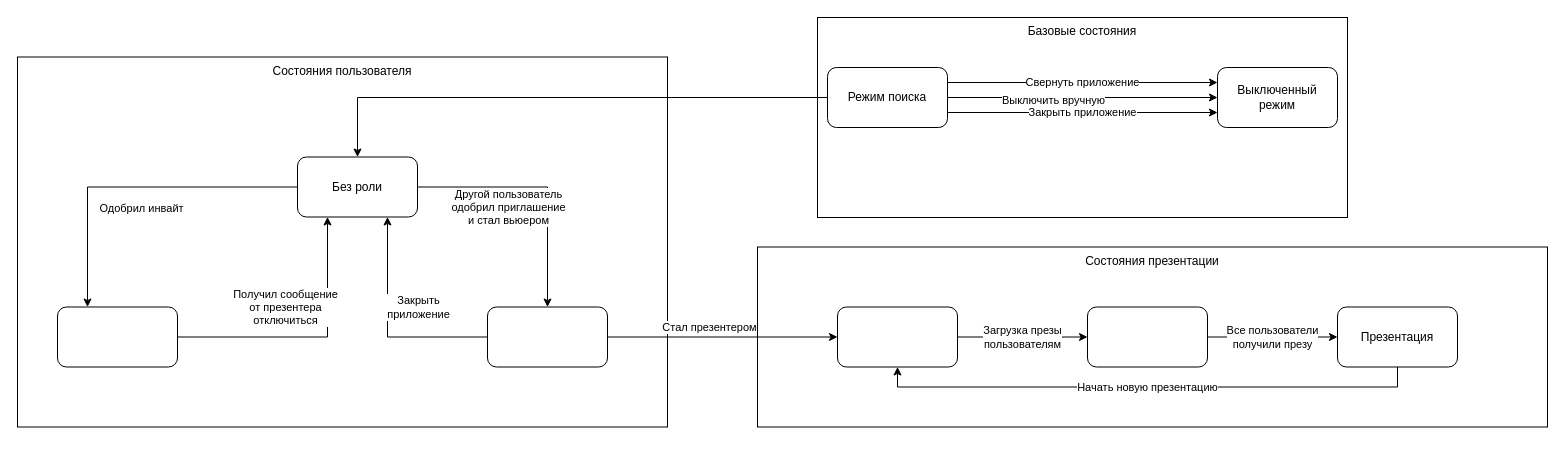
The diagram is 1565 pixels wide and 453 high, and some of its shapes have lost their labels. Here are the shapes that lost their labels. From the top down, the centre of each, then its label:
[117,336]: Вьюер
[547,336]: Презентер
[897,336]: Выбор картинки
[1147,336]: Загрузка
